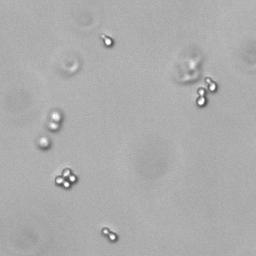budding: (98, 221, 120, 244), (205, 73, 220, 94), (99, 28, 114, 49), (194, 86, 207, 109)
cluster: (52, 165, 79, 190)
